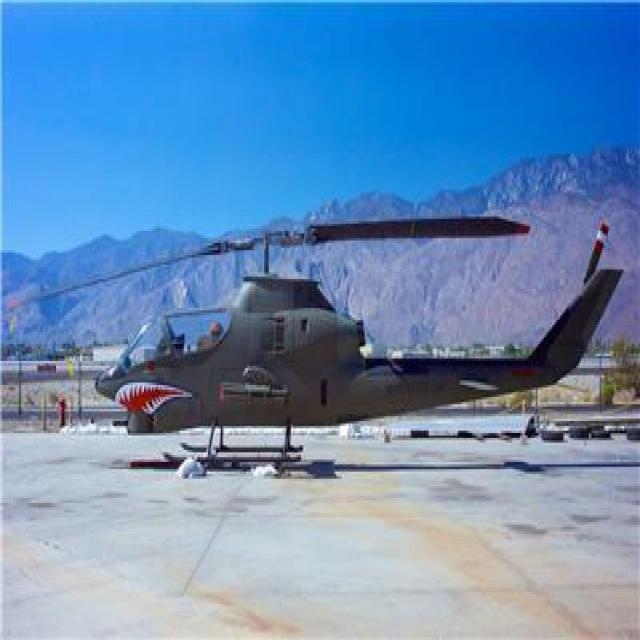MIL_HELO: (11, 202, 586, 474)
